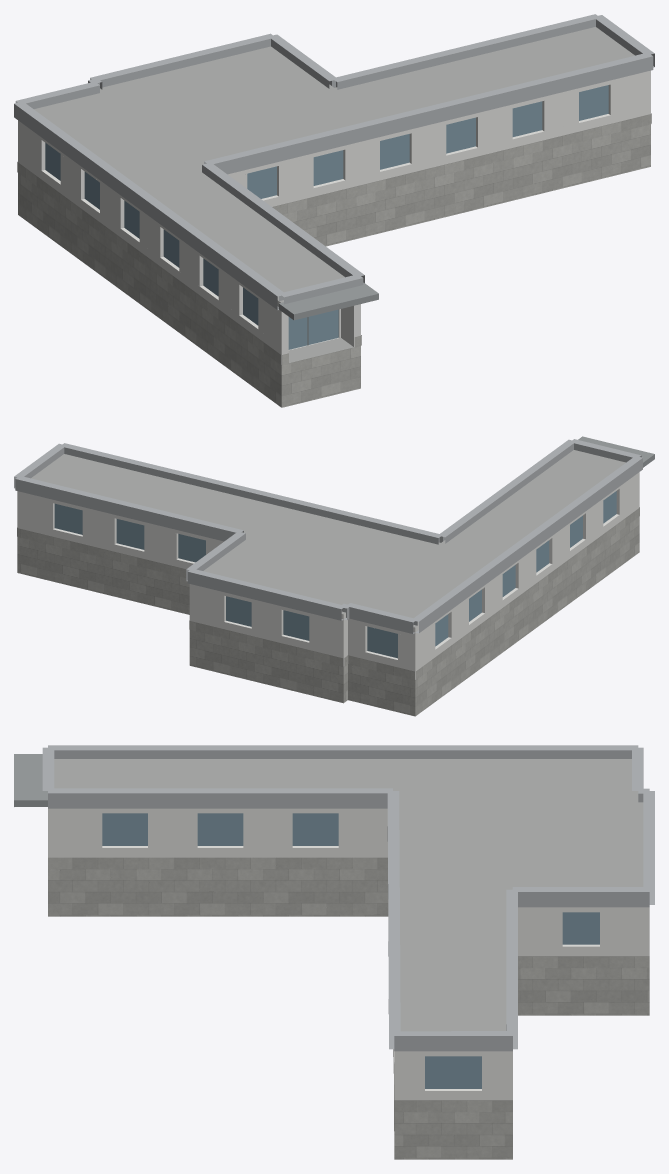
3 views of the same model, one above another, from view 1: azimuth 30°, elevation 25°; view 2: azimuth 150°, elevation 25°; view 3: azimuth 270°, elevation 25° (orthographic). The views are drawn at different scales.
Parts seen in each view (by area): view 1: ctAnnexN25_2__roof, ctAnnexN25_2__base, ctAnnexN25_2__trim, ctAnnexN25_2__wall, ctAnnexN25_2__glass, ctAnnexN25_2__canopy; view 2: ctAnnexN25_2__roof, ctAnnexN25_2__base, ctAnnexN25_2__trim, ctAnnexN25_2__wall, ctAnnexN25_2__glass, ctAnnexN25_2__canopy; view 3: ctAnnexN25_2__roof, ctAnnexN25_2__base, ctAnnexN25_2__trim, ctAnnexN25_2__wall, ctAnnexN25_2__glass, ctAnnexN25_2__canopy.
Part boxes in pixels (x1,y1,x2,y2): ctAnnexN25_2__roof: (34,27,634,362); ctAnnexN25_2__base: (17,113,651,407); ctAnnexN25_2__trim: (14,14,654,310); ctAnnexN25_2__wall: (18,70,650,364); ctAnnexN25_2__glass: (45,85,608,349); ctAnnexN25_2__canopy: (278,282,378,320); ctAnnexN25_2__roof: (31,450,625,627); ctAnnexN25_2__base: (17,507,639,716); ctAnnexN25_2__trim: (14,439,642,633); ctAnnexN25_2__wall: (17,472,639,679); ctAnnexN25_2__glass: (54,491,616,658); ctAnnexN25_2__canopy: (578,436,654,467); ctAnnexN25_2__roof: (54,759,643,1063); ctAnnexN25_2__base: (48,857,649,1159); ctAnnexN25_2__trim: (42,745,654,1051); ctAnnexN25_2__wall: (48,808,649,1100); ctAnnexN25_2__glass: (102,813,599,1088); ctAnnexN25_2__canopy: (14,754,47,806).
Bounding box in the file's own units: 32.47 × 6.55 × 30.26.
Materials: 8 (1 with a texture image).
